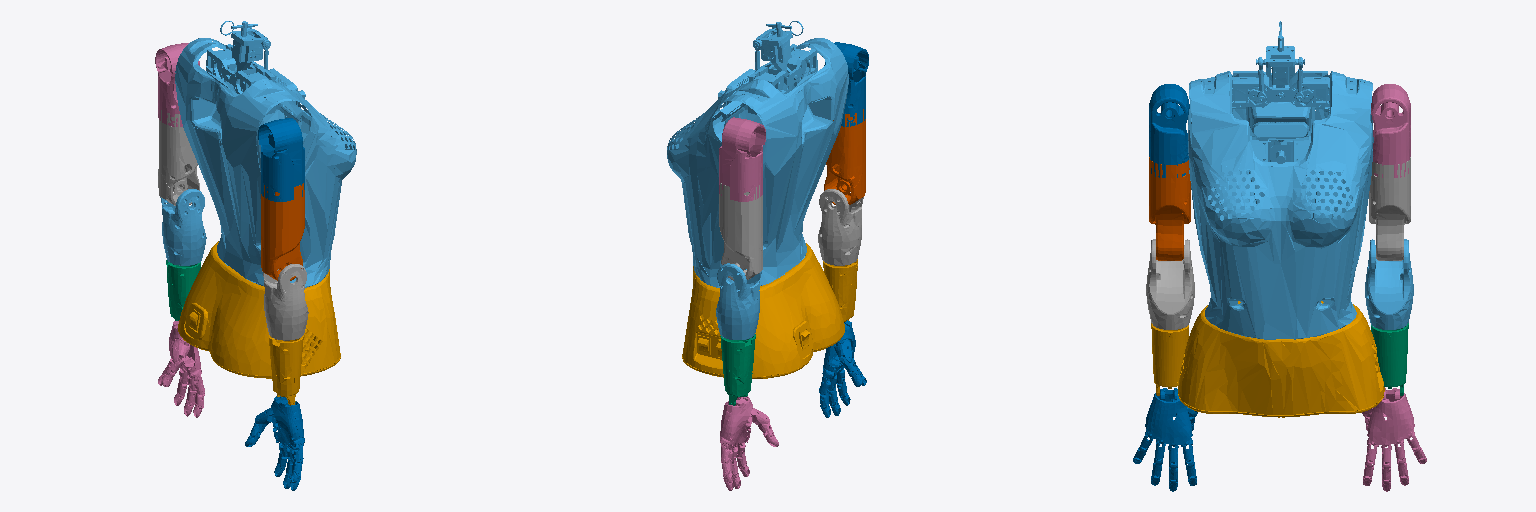
The robot description file, URDF, robot "sophia_robot":
<?xml version="1.0" encoding="utf-8"?>
<!-- =================================================================================== -->
<!-- |    This document was autogenerated by xacro from [local-path]/Dropbox/Vital_Sign_Monitoring/HATP_based/src/sophia_robot_description/urdf/description.xacro | -->
<!-- |    EDITING THIS FILE BY HAND IS NOT RECOMMENDED                                 | -->
<!-- =================================================================================== -->
<!-- 
To get urdf use:
rosrun xacro xacro.py `rospack find sophia_robot_description`/urdf/description.xacro > `rospack find sophia_robot_description`/urdf/sophia_robot.urdf
 -->
<robot name="sophia_robot">
  <!-- <xacro:include filename="[local-path]/Dropbox/Vital_Sign_Monitoring/HATP_based/src/sophia_robot_description/urdf/sophia_right_hand_v3.urdf.xacro" />
	<xacro:include filename="[local-path]/Dropbox/Vital_Sign_Monitoring/HATP_based/src/sophia_robot_description/urdf/sophia_left_hand_v3.urdf.xacro" /> -->
  <gazebo>
    <!-- <static>true</static> -->
    <plugin filename="libgazebo_ros_control.so" name="gazebo_ros_control">
      <!-- <robotNamespace>/sophia</robotNamespace> -->
      <legacyModeNS>true</legacyModeNS>
    </plugin>
  </gazebo>
  <gazebo reference="head_camera">
    <sensor name="head_sensor" type="camera">
      <update_rate>30.0</update_rate>
      <camera name="head_camera">
        <horizontal_fov>1.5</horizontal_fov>
        <image>
          <width>800</width>
          <height>600</height>
          <format>R8G8B8</format>
        </image>
        <clip>
          <near>0.02</near>
          <far>300</far>
        </clip>
        <noise>
          <type>gaussian</type>
          <!-- Noise is sampled independently per pixel on each frame.
					That pixel's noise value is added to each of its color
					channels, which at that point lie in the range [0,1]. -->
          <mean>0.0</mean>
          <stddev>0.007</stddev>
        </noise>
      </camera>
      <plugin filename="libgazebo_ros_camera.so" name="camera_controller">
        <alwaysOn>true</alwaysOn>
        <updateRate>0.0</updateRate>
        <cameraName>head/camera</cameraName>
        <imageTopicName>image_raw</imageTopicName>
        <cameraInfoTopicName>camera_info</cameraInfoTopicName>
        <frameName>head_camera</frameName>
        <hackBaseline>0.07</hackBaseline>
        <distortionK1>0.0</distortionK1>
        <distortionK2>0.0</distortionK2>
        <distortionK3>0.0</distortionK3>
        <distortionT1>0.0</distortionT1>
        <distortionT2>0.0</distortionT2>
      </plugin>
      <visualize>false</visualize>
    </sensor>
  </gazebo>
  <link name="base">
    <collision>
      <!-- Original ones seem off the place -->
      <!-- <origin xyz="0 0 0.075" rpy="0 0 0"/> -->
      <!-- Modified ones -->
      <origin rpy="0 0 0" xyz="0 0 0"/>
      <geometry>
        <mesh filename="package://sophia_robot_description/meshes/body/lower_torso.stl" scale="1 1 1"/>
      </geometry>
    </collision>
    <visual>
      <!-- Original ones seem off the place -->
      <!-- <origin xyz="0 0 0.075" rpy="0 0 0"/> -->
      <!-- Modified ones -->
      <origin rpy="0 0 0" xyz="0 0 0"/>
      <geometry>
        <mesh filename="package://sophia_robot_description/meshes/body/lower_torso.stl" scale="1 1 1"/>
      </geometry>
    </visual>
    <inertial>
      <origin rpy="0 0 0" xyz="0 0 0"/>
      <mass value="0.1"/>
      <inertia ixx="1e-3" ixy="0.0" ixz="0.0" iyy="1e-3" iyz="0.0" izz="1e-3"/>
    </inertial>
  </link>
  <link name="torso_yaw">
    <visual>
      <geometry>
        <mesh filename="package://sophia_robot_description/meshes/body/upper_torso.stl" scale="1 1 1"/>
      </geometry>
    </visual>
    <collision>
      <geometry>
        <mesh filename="package://sophia_robot_description/meshes/body/upper_torso.stl" scale="1 1 1"/>
      </geometry>
    </collision>
    <inertial>
      <mass value="0.1"/>
      <inertia ixx="1e-3" ixy="0.0" ixz="0.0" iyy="1e-3" iyz="0.0" izz="1e-3"/>
    </inertial>
  </link>
  <joint name="torso_yaw_joint" type="revolute">
    <parent link="base"/>
    <child link="torso_yaw"/>
    <!-- Original ones seem off the place -->
    <!-- <origin xyz="0 0 0.143" rpy="0 0 0"/> -->
    <!-- Modified ones -->
    <origin rpy="0 0 0" xyz="-0.03698509 -0.000917819 0.222723"/>
    <axis xyz="0 0 1"/>
    <limit effort="1000" lower="-2.9" upper="2.9" velocity="0.5"/>
  </joint>
  <link name="shoulder_center">
    <inertial>
      <mass value="0.1"/>
      <inertia ixx="1e-3" ixy="0.0" ixz="0.0" iyy="1e-3" iyz="0.0" izz="1e-3"/>
    </inertial>
  </link>
  <joint name="shoulder_center_joint" type="fixed">
    <parent link="torso_yaw"/>
    <child link="shoulder_center"/>
    <!-- Original ones seem off the place -->
    <!-- <origin xyz="-0.097 0 0.3182"/> -->
    <!-- Modified ones -->
    <origin xyz="-0.04794919 -0.001013606 0.1586865"/>
  </joint>
  <!--========================================== RIGHT PART ==================================================== -->
  <link name="right_shoulder_pitch">
    <inertial>
      <mass value="0.1"/>
      <inertia ixx="1e-3" ixy="0.0" ixz="0.0" iyy="1e-3" iyz="0.0" izz="1e-3"/>
    </inertial>
  </link>
  <joint name="right_shoulder_pitch_joint" type="revolute">
    <parent link="shoulder_center"/>
    <child link="right_shoulder_pitch"/>
    <origin rpy="0 0 0" xyz="0 -0.1728 0"/>
    <axis xyz="0 -0.99311 -0.11719"/>
    <limit effort="1000" lower="-0.489" upper="1.553" velocity="0.5"/>
    <!-- For testing -->
    <!-- <limit lower="-3.14159" upper="3.14159" effort="1000" velocity="0.5"/> -->
  </joint>
  <!-- Yifan note: available in unity rig -->
  <link name="right_shoulder_roll">
    <visual>
      <origin rpy="0 0 0"/>
      <geometry>
        <mesh filename="package://sophia_robot_description/meshes/body/right_upper_shoulder.stl" scale="1 1 1"/>
      </geometry>
    </visual>
    <collision>
      <origin rpy="0 0 0"/>
      <geometry>
        <mesh filename="package://sophia_robot_description/meshes/body/right_upper_shoulder.stl" scale="1 1 1"/>
      </geometry>
    </collision>
    <inertial>
      <mass value="0.1"/>
      <inertia ixx="1e-3" ixy="0.0" ixz="0.0" iyy="1e-3" iyz="0.0" izz="1e-3"/>
    </inertial>
  </link>
  <joint name="right_shoulder_roll_joint" type="revolute">
    <parent link="right_shoulder_pitch"/>
    <child link="right_shoulder_roll"/>
    <origin rpy="0 0 0" xyz="0 0 0"/>
    <axis xyz="1 0 0"/>
    <limit effort="1000" lower="-1.675" upper="0.017" velocity="0.5"/>
    <!-- For testing -->
    <!-- <limit lower="-3.14159" upper="3.14159" effort="1000" velocity="0.5"/> -->
  </joint>
  <!-- Yifan note: available in unity rig -->
  <link name="right_shoulder_yaw">
    <visual>
      <origin rpy="0 0 0"/>
      <geometry>
        <mesh filename="package://sophia_robot_description/meshes/body/right_lower_shoulder.stl" scale="1 1 1"/>
      </geometry>
    </visual>
    <collision>
      <origin rpy="0 0 0"/>
      <geometry>
        <mesh filename="package://sophia_robot_description/meshes/body/right_lower_shoulder.stl" scale="1 1 1"/>
      </geometry>
    </collision>
    <inertial>
      <mass value="0.1"/>
      <inertia ixx="1e-3" ixy="0.0" ixz="0.0" iyy="1e-3" iyz="0.0" izz="1e-3"/>
    </inertial>
  </link>
  <joint name="right_shoulder_yaw_joint" type="revolute">
    <parent link="right_shoulder_roll"/>
    <child link="right_shoulder_yaw"/>
    <origin rpy="0 0 0" xyz="0.0052 0 -0.1043"/>
    <axis xyz="0 0 -1"/>
    <limit effort="1000" lower="-1.169" upper="0.890" velocity="0.5"/>
    <!-- For testing -->
    <!-- <limit lower="-3.14159" upper="3.14159" effort="1000" velocity="0.5"/> -->
  </joint>
  <!-- Yifan note: place an artificial joint and link at the origin of right_elbow_yaw_joint
		for solving only. This joint has no further use. Although it is declared as revolute, it is treated as fixed,
		as it would always be set to 0 when solving for ik-->
  <link name="right_elbow_artificial">
    <inertial>
      <mass value="0.1"/>
      <inertia ixx="1e-3" ixy="0.0" ixz="0.0" iyy="1e-3" iyz="0.0" izz="1e-3"/>
    </inertial>
  </link>
  <joint name="right_elbow_artificial_joint" type="revolute">
    <parent link="right_elbow_pitch"/>
    <child link="right_elbow_artificial"/>
    <!-- Yifan note: origins directly computed from the elbow yaw,
			wrist pitch and wrist roll joint -->
    <origin rpy="0 0 0" xyz="0.0036 0 -0.235"/>
    <axis xyz="0 0 1"/>
    <limit effort="1000" lower="-3.14159" upper="3.14159" velocity="0.5"/>
  </joint>
  <!-- Yifan note: available in unity rig -->
  <link name="right_elbow_pitch">
    <visual>
      <origin rpy="0 0 0"/>
      <geometry>
        <mesh filename="package://sophia_robot_description/meshes/body/right_upper_lower_arm.stl" scale="1 1 1"/>
      </geometry>
    </visual>
    <collision>
      <origin rpy="0 0 0"/>
      <geometry>
        <mesh filename="package://sophia_robot_description/meshes/body/right_upper_lower_arm.stl" scale="1 1 1"/>
      </geometry>
    </collision>
    <inertial>
      <mass value="0.1"/>
      <inertia ixx="1e-3" ixy="0.0" ixz="0.0" iyy="1e-3" iyz="0.0" izz="1e-3"/>
    </inertial>
  </link>
  <joint name="right_elbow_pitch_joint" type="revolute">
    <parent link="right_shoulder_yaw"/>
    <child link="right_elbow_pitch"/>
    <origin rpy="0 0 0" xyz="-0.003 0 -0.1507"/>
    <axis xyz="0 1 0"/>
    <limit effort="1000" lower="-2.217" upper="0" velocity="0.5"/>
    <!-- For testing -->
    <!-- <limit lower="-3.14159" upper="3.14159" effort="1000" velocity="0.5"/> -->
  </joint>
  <!-- Yifan note: available in unity rig -->
  <link name="right_elbow_yaw">
    <visual>
      <origin rpy="0 0 0"/>
      <geometry>
        <mesh filename="package://sophia_robot_description/meshes/body/right_lower_lower_arm.stl" scale="1 1 1"/>
      </geometry>
    </visual>
    <collision>
      <origin rpy="0 0 0"/>
      <geometry>
        <mesh filename="package://sophia_robot_description/meshes/body/right_lower_lower_arm.stl" scale="1 1 1"/>
      </geometry>
    </collision>
    <inertial>
      <mass value="0.1"/>
      <inertia ixx="1e-3" ixy="0.0" ixz="0.0" iyy="1e-3" iyz="0.0" izz="1e-3"/>
    </inertial>
  </link>
  <joint name="right_elbow_yaw_joint" type="revolute">
    <parent link="right_elbow_pitch"/>
    <child link="right_elbow_yaw"/>
    <origin rpy="0 0 0" xyz="0.0036 0 -0.0935"/>
    <axis xyz="0 0 1"/>
    <limit effort="1000" lower="-2.757" upper="0.0" velocity="0.5"/>
    <!-- For testing -->
    <!-- <limit lower="-3.14159" upper="3.14159" effort="1000" velocity="0.5"/> -->
  </joint>
  <!-- Yifan note: available in unity rig -->
  <link name="right_wrist_pitch">
    <inertial>
      <mass value="0.1"/>
      <inertia ixx="1e-3" ixy="0.0" ixz="0.0" iyy="1e-3" iyz="0.0" izz="1e-3"/>
    </inertial>
  </link>
  <joint name="right_wrist_pitch_joint" type="revolute">
    <parent link="right_elbow_yaw"/>
    <child link="right_wrist_pitch"/>
    <origin rpy="0 0 0" xyz="0 0 -0.1365"/>
    <axis xyz="0 -1 0"/>
    <limit effort="1000" lower="-0.995" upper="0.733" velocity="0.5"/>
    <!-- For testing -->
    <!-- <limit lower="-3.14159" upper="3.14159" effort="1000" velocity="0.5"/> -->
  </joint>
  <!-- Yifan note: similar artificial treatment as with the upper arm -->
  <link name="right_wrist_roll_artificial">
    <inertial>
      <mass value="0.1"/>
      <inertia ixx="1e-3" ixy="0.0" ixz="0.0" iyy="1e-3" iyz="0.0" izz="1e-3"/>
    </inertial>
  </link>
  <joint name="right_wrist_roll_artificial_joint" type="revolute">
    <parent link="right_wrist_pitch"/>
    <child link="right_wrist_roll_artificial"/>
    <!-- By experiment, rotating around x-axis from the original wrist roll joint frame 
			by 195 degrees best aligns the z-axis with the index finger  -->
    <origin rpy="-1.3089969 0 0" xyz="0 0 -0.005"/>
    <axis xyz="1 0 0"/>
    <!-- This one is for openrave ikfast generation -->
    <limit effort="1000" lower="-0.419" upper="+0.471" velocity="0.5"/>
    <!-- This joint has no limit due to its artificial nature-->
    <!-- The limit would be checked when setting the real joint after applying a proper offset -->
    <!-- <limit lower="-3.14159" upper="3.14159" effort="1000" velocity="0.5"/> -->
  </joint>
  <link name="right_wrist_roll">
    <inertial>
      <mass value="0.1"/>
      <inertia ixx="1e-3" ixy="0.0" ixz="0.0" iyy="1e-3" iyz="0.0" izz="1e-3"/>
    </inertial>
  </link>
  <joint name="right_wrist_roll_joint" type="revolute">
    <parent link="right_wrist_pitch"/>
    <child link="right_wrist_roll"/>
    <origin rpy="0 0 0" xyz="0 0 -0.005"/>
    <axis xyz="1 0 0"/>
    <!-- This is the original range which looks wrong to me. We use the one for left wrist roll instead for now -->
    <!-- <limit lower="-0.419" upper="0.332" effort="1000" velocity="0.5"/> -->
    <!-- Range mimicing the left wrist roll -->
    <limit effort="1000" lower="-0.419" upper="+0.471" velocity="0.5"/>
    <!-- For testing -->
    <!-- <limit lower="-3.14159" upper="3.14159" effort="1000" velocity="0.5"/> -->
  </joint>
  <link name="right_hand">
    <visual>
      <origin rpy="0 0 0.0"/>
      <geometry>
        <mesh filename="package://sophia_robot_description/meshes/body/right_hand.stl" scale="1 1 1"/>
      </geometry>
    </visual>
    <collision>
      <origin rpy="0 0 0.0"/>
      <geometry>
        <mesh filename="package://sophia_robot_description/meshes/body/right_hand.stl" scale="1 1 1"/>
      </geometry>
    </collision>
    <inertial>
      <mass value="0.1"/>
      <inertia ixx="1e-3" ixy="0.0" ixz="0.0" iyy="1e-3" iyz="0.0" izz="1e-3"/>
    </inertial>
  </link>
  <joint name="right_hand_joint" type="fixed">
    <parent link="right_wrist_roll"/>
    <child link="right_hand"/>
    <origin rpy="0 0 0" xyz="0 0 0.0"/>
  </joint>
  <!--========================================== LEFT PART ==================================================== -->
  <link name="left_shoulder_pitch">
    <inertial>
      <mass value="0.1"/>
      <inertia ixx="1e-3" ixy="0.0" ixz="0.0" iyy="1e-3" iyz="0.0" izz="1e-3"/>
    </inertial>
  </link>
  <joint name="left_shoulder_pitch_joint" type="revolute">
    <parent link="shoulder_center"/>
    <child link="left_shoulder_pitch"/>
    <origin rpy="0 0 0" xyz="0 0.1728 0"/>
    <axis xyz="0 0.99311 0.11719"/>
    <limit effort="1000" lower="-1.553" upper="0.489" velocity="0.5"/>
    <!-- For testing -->
    <!-- <limit lower="-3.14159" upper="3.14159" effort="1000" velocity="0.5"/> -->
  </joint>
  <!-- Yifan note: available in unity rig -->
  <link name="left_shoulder_roll">
    <visual>
      <origin rpy="0 0 0"/>
      <geometry>
        <mesh filename="package://sophia_robot_description/meshes/body/left_upper_shoulder.stl" scale="1 1 1"/>
      </geometry>
    </visual>
    <collision>
      <origin rpy="0 0 0"/>
      <geometry>
        <mesh filename="package://sophia_robot_description/meshes/body/left_upper_shoulder.stl" scale="1 1 1"/>
      </geometry>
    </collision>
    <inertial>
      <mass value="0.1"/>
      <inertia ixx="1e-3" ixy="0.0" ixz="0.0" iyy="1e-3" iyz="0.0" izz="1e-3"/>
    </inertial>
  </link>
  <joint name="left_shoulder_roll_joint" type="revolute">
    <parent link="left_shoulder_pitch"/>
    <child link="left_shoulder_roll"/>
    <origin rpy="0 0 0" xyz="0 0 0"/>
    <axis xyz="1 0 0"/>
    <limit effort="1000" lower="-0.017" upper="1.884" velocity="0.5"/>
    <!-- For testing -->
    <!-- <limit lower="-3.14159" upper="3.14159" effort="1000" velocity="0.5"/> -->
  </joint>
  <!-- Yifan note: available in unity rig -->
  <link name="left_shoulder_yaw">
    <visual>
      <origin rpy="0 0 0"/>
      <geometry>
        <mesh filename="package://sophia_robot_description/meshes/body/left_lower_shoulder.stl" scale="1 1 1"/>
      </geometry>
    </visual>
    <collision>
      <origin rpy="0 0 0"/>
      <geometry>
        <mesh filename="package://sophia_robot_description/meshes/body/left_lower_shoulder.stl" scale="1 1 1"/>
      </geometry>
    </collision>
    <inertial>
      <mass value="0.1"/>
      <inertia ixx="1e-3" ixy="0.0" ixz="0.0" iyy="1e-3" iyz="0.0" izz="1e-3"/>
    </inertial>
  </link>
  <joint name="left_shoulder_yaw_joint" type="revolute">
    <parent link="left_shoulder_roll"/>
    <child link="left_shoulder_yaw"/>
    <origin rpy="0 0 0" xyz="0.0052 0 -0.1043"/>
    <axis xyz="0 0 -1"/>
    <limit effort="1000" lower="-0.977" upper="1.169" velocity="0.5"/>
    <!-- For testing -->
    <!-- <limit lower="-3.14159" upper="3.14159" effort="1000" velocity="0.5"/> -->
  </joint>
  <!-- Yifan note: same artificial treatment as the right case-->
  <link name="left_elbow_artificial">
    <inertial>
      <mass value="0.1"/>
      <inertia ixx="1e-3" ixy="0.0" ixz="0.0" iyy="1e-3" iyz="0.0" izz="1e-3"/>
    </inertial>
  </link>
  <joint name="left_elbow_artificial_joint" type="revolute">
    <parent link="left_elbow_pitch"/>
    <child link="left_elbow_artificial"/>
    <!-- Yifan note: origins directly computed from the elbow yaw,
			wrist pitch and wrist roll joint -->
    <origin rpy="0 0 0" xyz="0.0036 0 -0.235"/>
    <axis xyz="0 0 1"/>
    <limit effort="1000" lower="-3.14159" upper="3.14159" velocity="0.5"/>
  </joint>
  <!-- Yifan note: available in unity rig -->
  <link name="left_elbow_pitch">
    <visual>
      <origin rpy="0 0 0"/>
      <geometry>
        <mesh filename="package://sophia_robot_description/meshes/body/left_upper_lower_arm.stl" scale="1 1 1"/>
      </geometry>
    </visual>
    <collision>
      <origin rpy="0 0 0"/>
      <geometry>
        <mesh filename="package://sophia_robot_description/meshes/body/left_upper_lower_arm.stl" scale="1 1 1"/>
      </geometry>
    </collision>
    <inertial>
      <mass value="0.1"/>
      <inertia ixx="1e-3" ixy="0.0" ixz="0.0" iyy="1e-3" iyz="0.0" izz="1e-3"/>
    </inertial>
  </link>
  <joint name="left_elbow_pitch_joint" type="revolute">
    <parent link="left_shoulder_yaw"/>
    <child link="left_elbow_pitch"/>
    <origin rpy="0 0 0" xyz="-0.003 0 -0.1507"/>
    <axis xyz="0 -1 0"/>
    <limit effort="1000" lower="0" upper="2.270" velocity="0.5"/>
    <!-- For testing -->
    <!-- <limit lower="-3.14159" upper="3.14159" effort="1000" velocity="0.5"/> -->
  </joint>
  <!-- Yifan note: available in unity rig -->
  <link name="left_elbow_yaw">
    <visual>
      <origin rpy="0 0 0"/>
      <geometry>
        <mesh filename="package://sophia_robot_description/meshes/body/left_lower_lower_arm.stl" scale="1 1 1"/>
      </geometry>
    </visual>
    <collision>
      <origin rpy="0 0 0"/>
      <geometry>
        <mesh filename="package://sophia_robot_description/meshes/body/left_lower_lower_arm.stl" scale="1 1 1"/>
      </geometry>
    </collision>
    <inertial>
      <mass value="0.1"/>
      <inertia ixx="1e-3" ixy="0.0" ixz="0.0" iyy="1e-3" iyz="0.0" izz="1e-3"/>
    </inertial>
  </link>
  <joint name="left_elbow_yaw_joint" type="revolute">
    <parent link="left_elbow_pitch"/>
    <child link="left_elbow_yaw"/>
    <origin rpy="0 0 0" xyz="0.0036 0 -0.0935"/>
    <axis xyz="0 0 1"/>
    <limit effort="1000" lower="0" upper="2.946" velocity="0.5"/>
    <!-- For testing -->
    <!-- <limit lower="-3.14159" upper="3.14159" effort="1000" velocity="0.5"/> -->
  </joint>
  <!-- Yifan note: available in unity rig -->
  <link name="left_wrist_pitch">
    <inertial>
      <mass value="0.1"/>
      <inertia ixx="1e-3" ixy="0.0" ixz="0.0" iyy="1e-3" iyz="0.0" izz="1e-3"/>
    </inertial>
  </link>
  <joint name="left_wrist_pitch_joint" type="revolute">
    <parent link="left_elbow_yaw"/>
    <child link="left_wrist_pitch"/>
    <origin rpy="0 0 0" xyz="0 0 -0.1365"/>
    <axis xyz="0 1 0"/>
    <limit effort="1000" lower="-1.047" upper="+0.995" velocity="0.5"/>
    <!-- For testing -->
    <!-- <limit lower="-3.14159" upper="3.14159" effort="1000" velocity="0.5"/> -->
  </joint>
  <!-- Yifan note: same artificial treatment as the right case-->
  <link name="left_wrist_roll_artificial">
    <inertial>
      <mass value="0.1"/>
      <inertia ixx="1e-3" ixy="0.0" ixz="0.0" iyy="1e-3" iyz="0.0" izz="1e-3"/>
    </inertial>
  </link>
  <joint name="left_wrist_roll_artificial_joint" type="revolute">
    <parent link="left_wrist_pitch"/>
    <child link="left_wrist_roll_artificial"/>
    <origin rpy="-1.3089969 0 0" xyz="0 0 -0.005"/>
    <axis xyz="1 0 0"/>
    <!-- <limit lower="-0.471" upper="+0.419" effort="1000" velocity="0.5"/> -->
    <limit effort="1000" lower="-3.14159" upper="3.14159" velocity="0.5"/>
  </joint>
  <link name="left_wrist_roll">
    <inertial>
      <mass value="0.1"/>
      <inertia ixx="1e-3" ixy="0.0" ixz="0.0" iyy="1e-3" iyz="0.0" izz="1e-3"/>
    </inertial>
  </link>
  <joint name="left_wrist_roll_joint" type="revolute">
    <parent link="left_wrist_pitch"/>
    <child link="left_wrist_roll"/>
    <origin rpy="0 0 0" xyz="0 0 -0.005"/>
    <axis xyz="1 0 0"/>
    <limit effort="1000" lower="-0.471" upper="+0.419" velocity="0.5"/>
    <!-- For testing -->
    <!-- <limit lower="-3.14159" upper="3.14159" effort="1000" velocity="0.5"/> -->
  </joint>
  <link name="left_hand">
    <visual>
      <origin rpy="0 0 0.0"/>
      <geometry>
        <mesh filename="package://sophia_robot_description/meshes/body/left_hand.stl" scale="1 1 1"/>
      </geometry>
    </visual>
    <collision>
      <origin rpy="0 0 0.0"/>
      <geometry>
        <mesh filename="package://sophia_robot_description/meshes/body/left_hand.stl" scale="1 1 1"/>
      </geometry>
    </collision>
    <inertial>
      <mass value="0.1"/>
      <inertia ixx="1e-3" ixy="0.0" ixz="0.0" iyy="1e-3" iyz="0.0" izz="1e-3"/>
    </inertial>
  </link>
  <joint name="left_hand_joint" type="fixed">
    <parent link="left_wrist_roll"/>
    <child link="left_hand"/>
    <origin rpy="0 0 0" xyz="0 0 0.0"/>
  </joint>
</robot>

--- Facts derived from the render (not from the file) ---
The picture shows the robot from 3 angles, left to right: view 1: azimuth 30°, elevation 25°; view 2: azimuth 150°, elevation 25°; view 3: azimuth 270°, elevation 25°; orthographic projection.
Model sophia_robot with 23 links and 22 joints (19 revolute, 3 fixed), rooted at base, posed every joint at zero.
Visible links, largest first — view 1: torso_yaw, base, right_shoulder_roll, right_shoulder_yaw, left_elbow_pitch, right_elbow_pitch, right_hand, left_shoulder_yaw, left_hand, right_elbow_yaw, left_shoulder_roll, left_elbow_yaw; view 2: torso_yaw, base, left_shoulder_roll, left_shoulder_yaw, right_elbow_pitch, left_elbow_pitch, left_hand, right_shoulder_yaw, right_hand, left_elbow_yaw, right_shoulder_roll, right_elbow_yaw; view 3: torso_yaw, base, right_hand, left_hand, right_shoulder_yaw, left_shoulder_yaw, right_elbow_pitch, left_elbow_pitch, right_shoulder_roll, left_shoulder_roll, right_elbow_yaw, left_elbow_yaw.
Link boxes in pixels (box(x1,y1,x2,y2)): torso_yaw: box(175, 21, 356, 287); base: box(178, 241, 340, 378); right_shoulder_roll: box(258, 118, 304, 201); right_shoulder_yaw: box(261, 183, 304, 280); left_elbow_pitch: box(160, 189, 206, 265); right_elbow_pitch: box(262, 264, 308, 340); right_hand: box(245, 396, 304, 490); left_shoulder_yaw: box(158, 110, 199, 205); left_hand: box(158, 321, 204, 417); right_elbow_yaw: box(269, 335, 303, 405); left_shoulder_roll: box(155, 43, 199, 126); left_elbow_yaw: box(166, 260, 200, 320); torso_yaw: box(667, 21, 848, 287); base: box(682, 243, 844, 378); left_shoulder_roll: box(719, 117, 765, 201); left_shoulder_yaw: box(719, 183, 762, 280); right_elbow_pitch: box(818, 189, 863, 265); left_elbow_pitch: box(716, 263, 761, 339); left_hand: box(720, 396, 778, 490); right_shoulder_yaw: box(824, 109, 865, 204); right_hand: box(819, 320, 866, 417); left_elbow_yaw: box(720, 334, 755, 405); right_shoulder_roll: box(824, 42, 868, 126); right_elbow_yaw: box(823, 259, 857, 321); torso_yaw: box(1188, 21, 1373, 339); base: box(1178, 301, 1384, 417); right_hand: box(1133, 388, 1197, 491); left_hand: box(1362, 388, 1426, 491); right_shoulder_yaw: box(1149, 157, 1190, 260); left_shoulder_yaw: box(1369, 157, 1410, 260); right_elbow_pitch: box(1146, 239, 1194, 329); left_elbow_pitch: box(1365, 239, 1413, 329); right_shoulder_roll: box(1149, 84, 1189, 177); left_shoulder_roll: box(1371, 84, 1410, 177); right_elbow_yaw: box(1151, 323, 1188, 395); left_elbow_yaw: box(1371, 323, 1408, 395).
Size in the robot's own frame: 0.2562 by 0.4607 by 0.8045 metres.
12 mesh visuals loaded from 12 distinct referenced files (12 binary STL).
